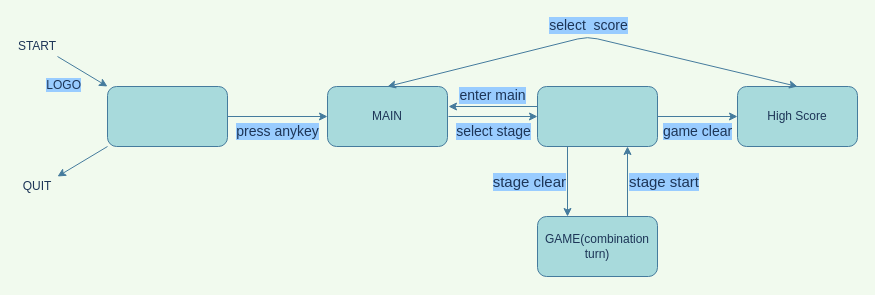
Image size: 875x295. Some labels were removed from this diagram. The centre of each missing label's shape, as x and y in pixels:
"GAME(defence turn)" goes at [597,116].
"TITLE" goes at [167,116].
